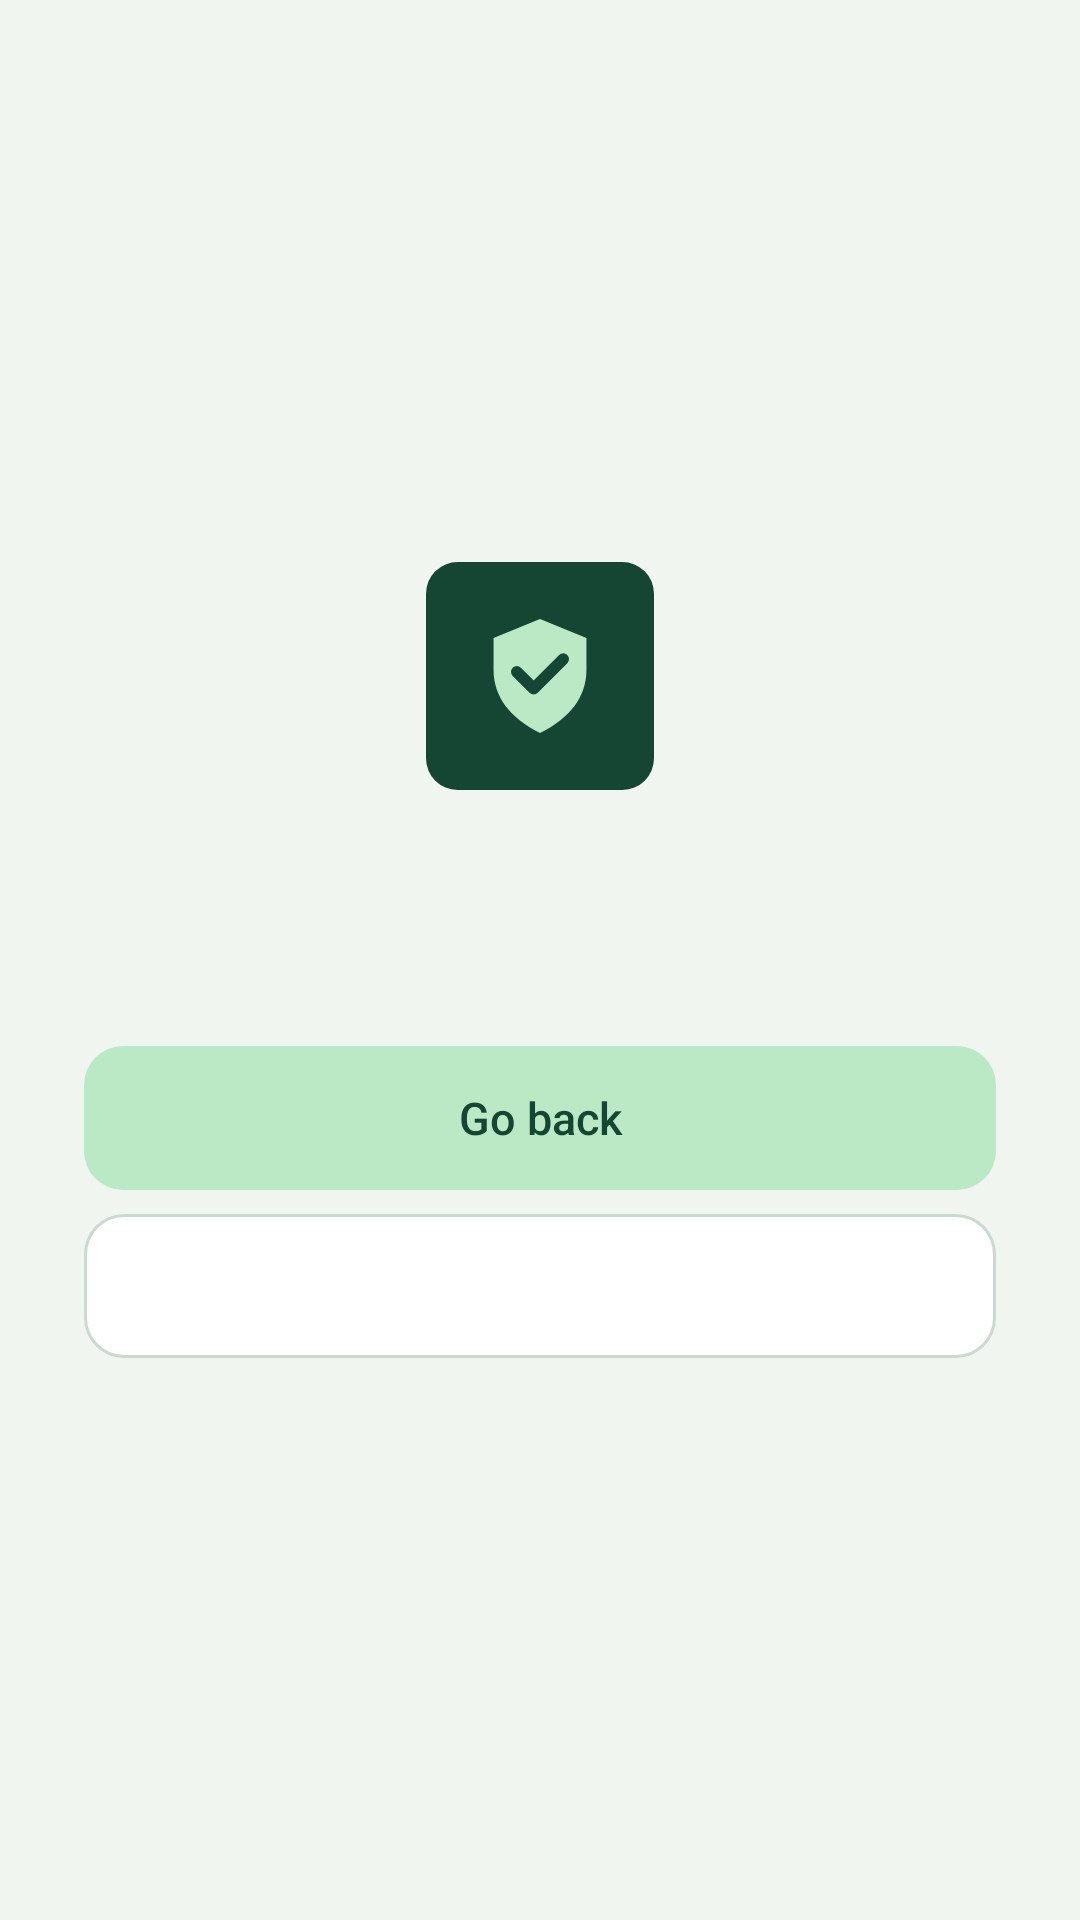

Screen size 1080 x 1920. Icon name, then its center in pixels as (x,y):
feed check badge: (540,676)
